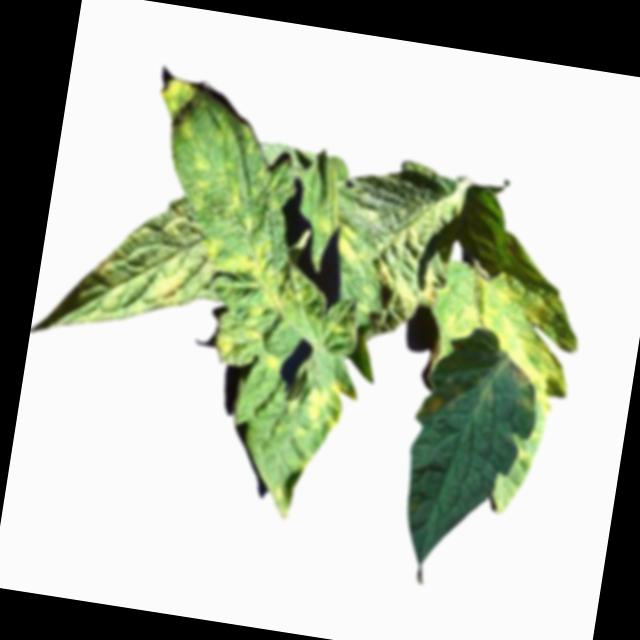Leaf_Mold: (411, 262, 585, 416), (192, 226, 298, 314), (299, 370, 356, 438), (212, 321, 283, 372), (154, 72, 198, 125), (332, 222, 372, 264), (148, 274, 188, 311)
